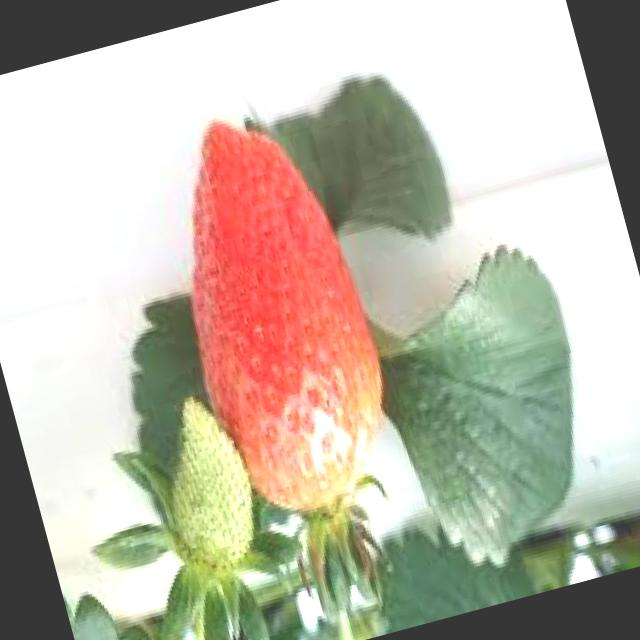Strawberry: (140, 94, 413, 536), (145, 386, 271, 578)
